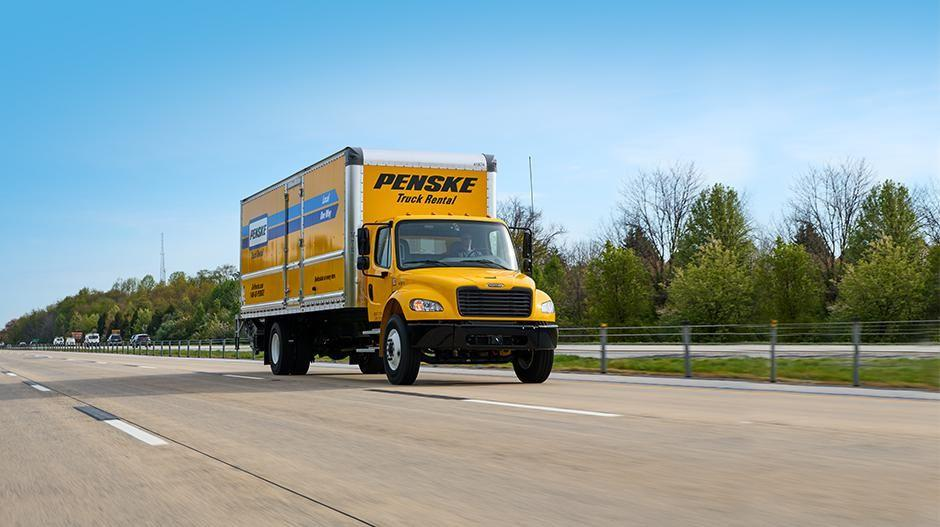truck: (235, 146, 560, 386)
